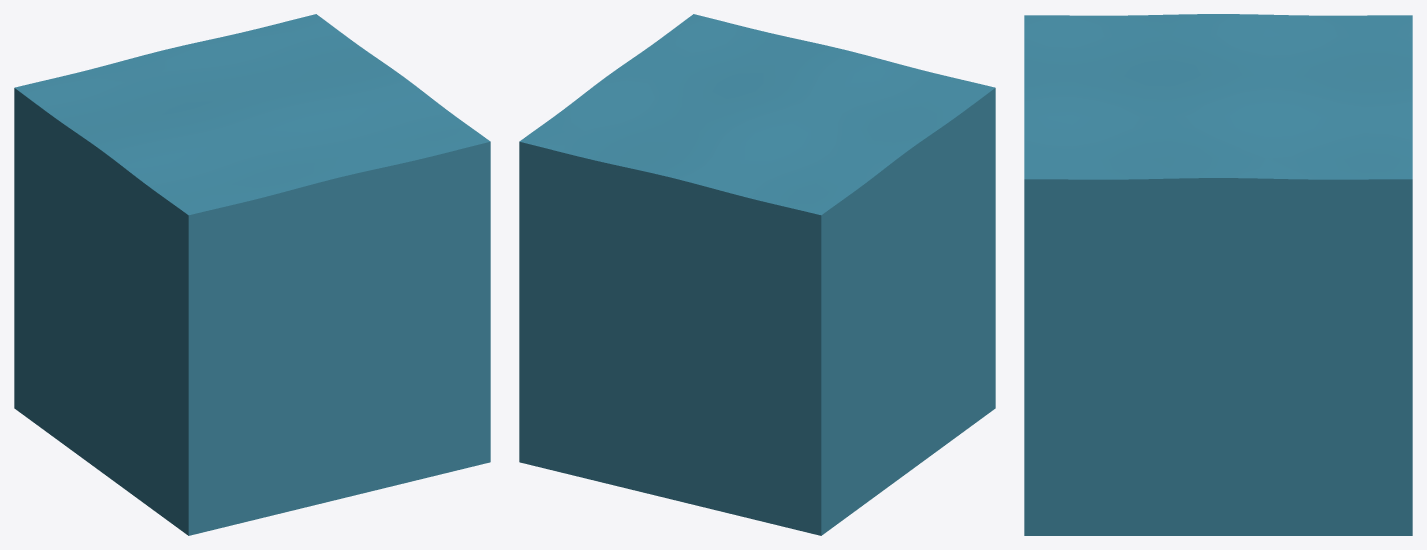
Rendered from slpool_wave12.glb.
3 renders of one model, left to right at view 1: azimuth 30°, elevation 25°; view 2: azimuth 150°, elevation 25°; view 3: azimuth 270°, elevation 25°, orthographic. The views are drawn at different scales.
Parts seen in each view (by area): view 1: poolWater; view 2: poolWater; view 3: poolWater.
Boxes of the visible parts, x1,y1,x2,y2 form: poolWater: (14, 14, 490, 535); poolWater: (519, 14, 995, 535); poolWater: (1024, 14, 1412, 535).
Size of the model in its own units: 2 by 2.04 by 2.
